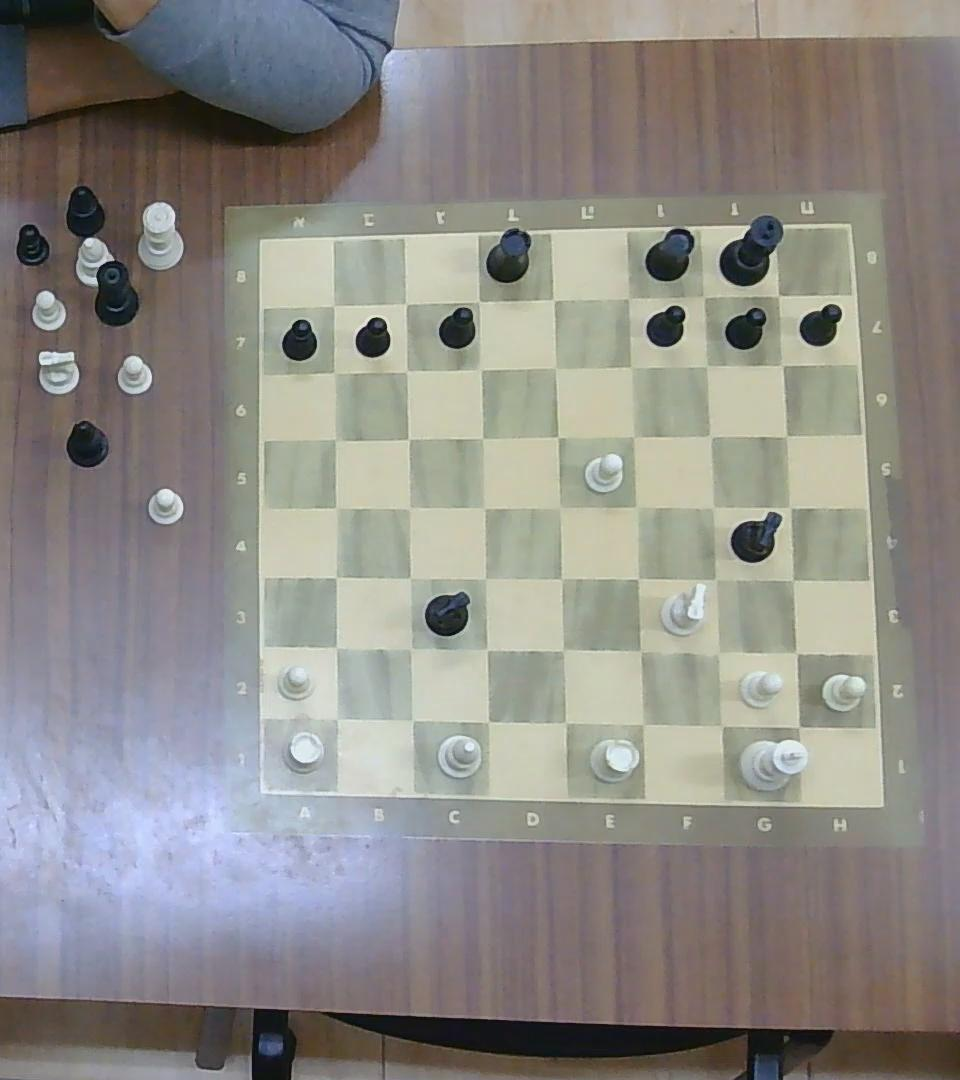xcorner: (781, 708, 815, 742), (703, 707, 738, 740), (624, 707, 659, 740), (702, 636, 734, 669), (548, 706, 580, 738), (625, 635, 656, 667), (547, 633, 578, 665), (396, 703, 428, 734), (780, 637, 812, 668), (320, 701, 351, 732), (622, 563, 652, 594), (471, 705, 502, 735), (470, 634, 501, 664), (700, 563, 730, 594), (548, 563, 577, 594), (320, 562, 350, 591), (470, 564, 500, 593), (545, 493, 574, 522), (395, 633, 424, 662), (622, 491, 651, 520), (321, 633, 350, 662), (698, 491, 727, 520), (616, 351, 645, 380), (470, 492, 499, 520), (777, 566, 806, 594), (467, 422, 495, 451), (543, 421, 572, 449), (619, 421, 648, 449), (539, 284, 567, 313), (395, 564, 423, 592), (615, 284, 643, 312), (540, 352, 568, 380), (393, 425, 422, 452), (395, 494, 423, 521), (322, 494, 350, 521), (776, 492, 804, 519), (693, 352, 721, 379), (696, 422, 723, 448), (322, 426, 348, 451), (467, 355, 493, 380), (322, 360, 348, 385), (691, 284, 716, 309), (393, 357, 419, 381), (465, 288, 491, 312), (773, 423, 798, 447), (393, 290, 418, 313), (322, 294, 345, 316), (767, 284, 790, 306), (772, 353, 794, 375)
